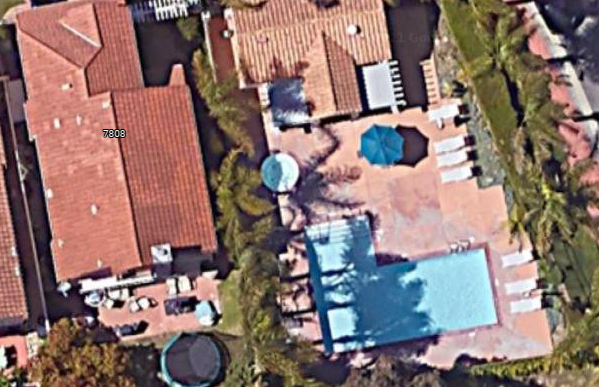poolww: (295, 207, 510, 364)
